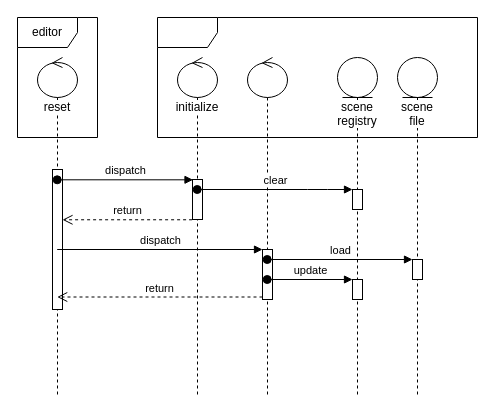
Image size: 495x415. Some labels were removed from this diagram. Each missing label, with the box of its shape:
boot: (246, 56, 288, 398)
engine: (156, 16, 478, 138)
